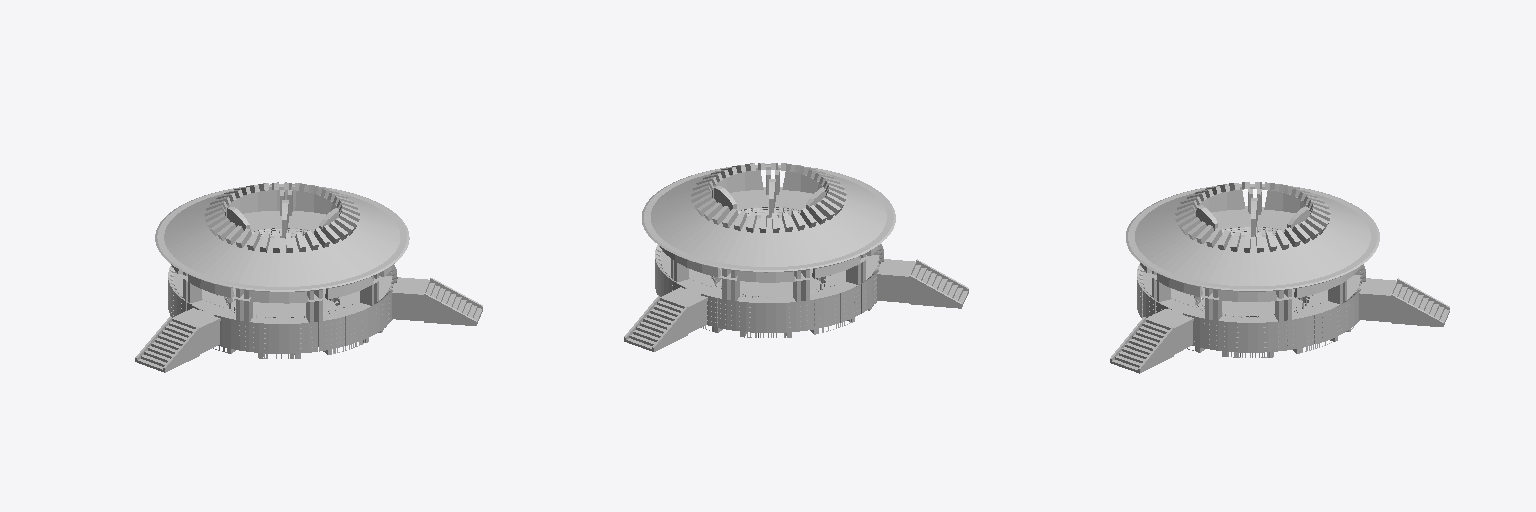
File: coliseo.obj
3 renders of one model, left to right at view 1: azimuth 30°, elevation 25°; view 2: azimuth 150°, elevation 25°; view 3: azimuth 270°, elevation 25°, orthographic.
Visible parts, largest first — view 1: romekolezyum; view 2: romekolezyum; view 3: romekolezyum.
Boxes of the visible parts, x1=… form: romekolezyum: x1=135, y1=182, x2=482, y2=372; romekolezyum: x1=624, y1=163, x2=968, y2=351; romekolezyum: x1=1110, y1=182, x2=1449, y2=373.
Size of the model in its own units: 123 by 40.96 by 115.